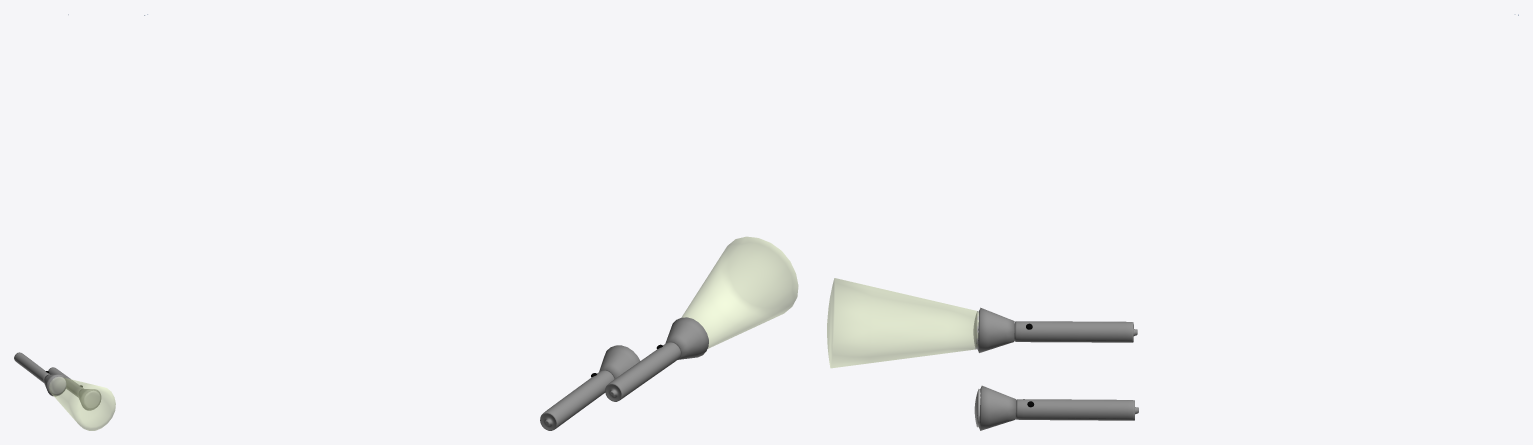
Rendered from flash_light_1.fbx.
3 views of the same model, side by side, from view 1: azimuth 30°, elevation 25°; view 2: azimuth 150°, elevation 25°; view 3: azimuth 270°, elevation 25° (orthographic). The views are drawn at different scales.
Visible parts, largest first — view 1: flash_light_1; view 2: flash_light_1; view 3: flash_light_1.
Boxes of the visible parts, box(x1,y1,x2,y2) form: flash_light_1: box(14, 14, 115, 430); flash_light_1: box(144, 14, 798, 430); flash_light_1: box(827, 14, 1518, 430).
Bounding box in the file's own units: 6225 × 9416 × 11275.
